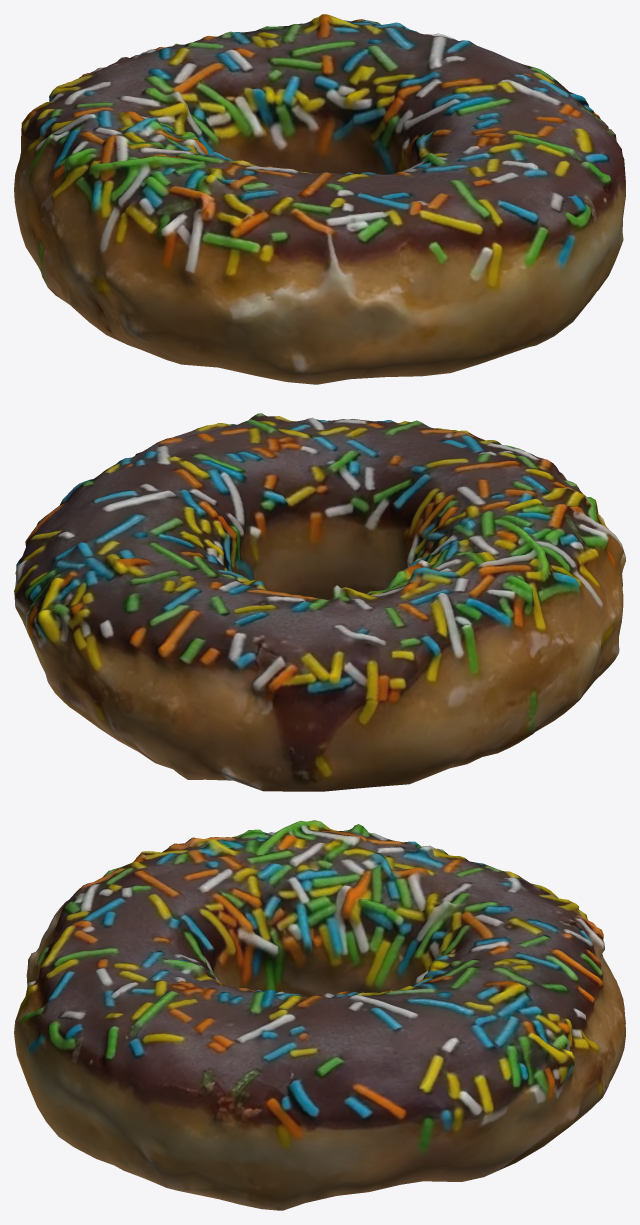
The model's file is optimized_chocodonut.glb.
The picture shows the model from 3 angles, top to bottom: view 1: azimuth 30°, elevation 25°; view 2: azimuth 150°, elevation 25°; view 3: azimuth 270°, elevation 25°; orthographic projection.
Parts seen in each view (by area): view 1: Mesh_0.004; view 2: Mesh_0.004; view 3: Mesh_0.004.
Boxes of the visible parts, x1,y1,x2,y2 form: Mesh_0.004: [14, 14, 625, 384]; Mesh_0.004: [14, 413, 625, 791]; Mesh_0.004: [14, 820, 625, 1210].
Bounding box in the file's own units: 0.094 × 0.0348 × 0.0955.
Materials: 1 (1 with a texture image).
